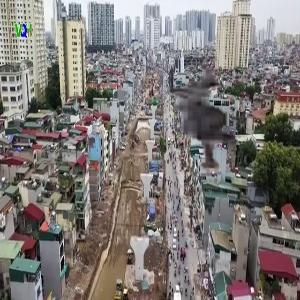drone: (145, 56, 282, 193)
